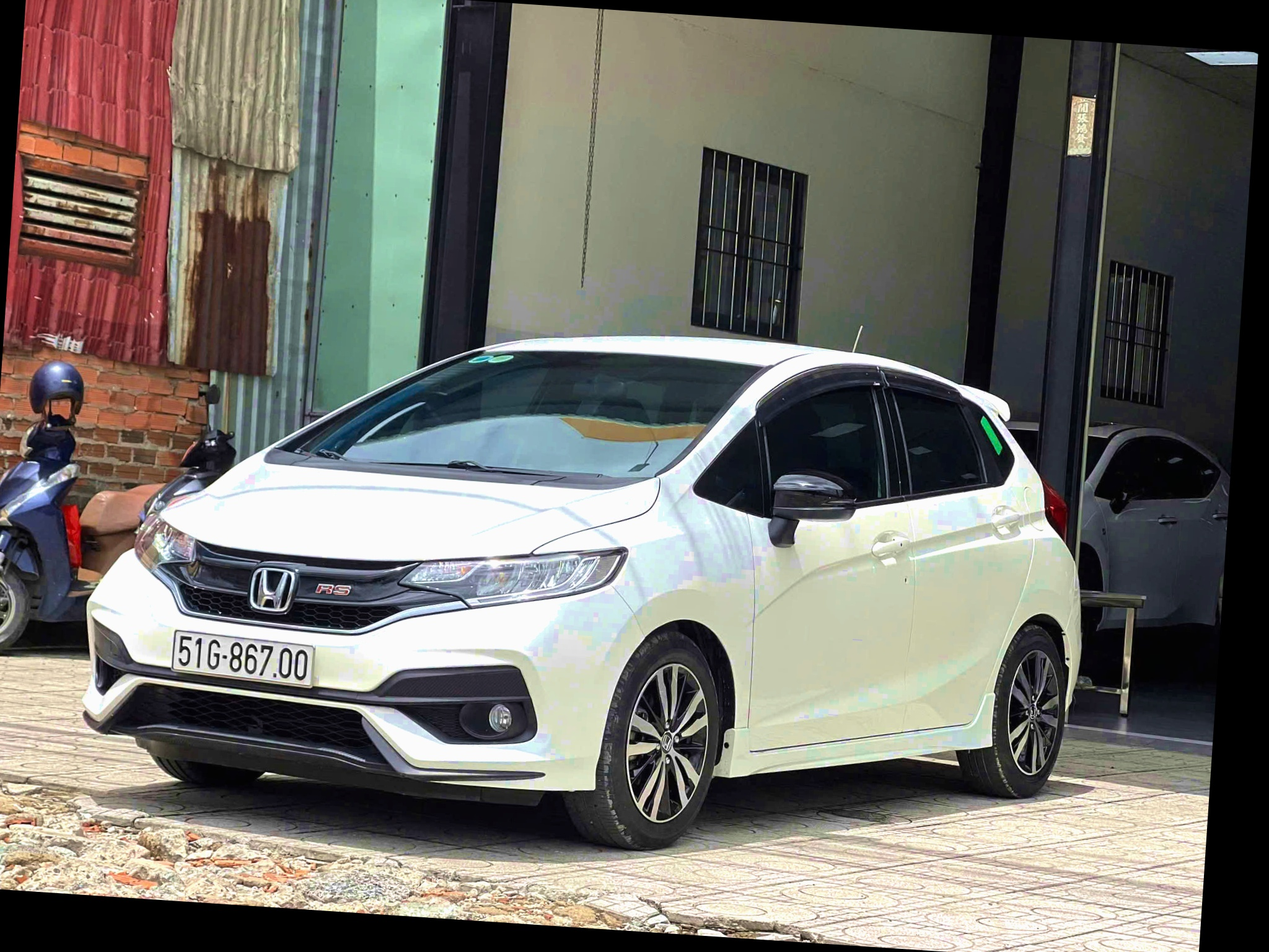Bien-so: (187, 676, 341, 735)
